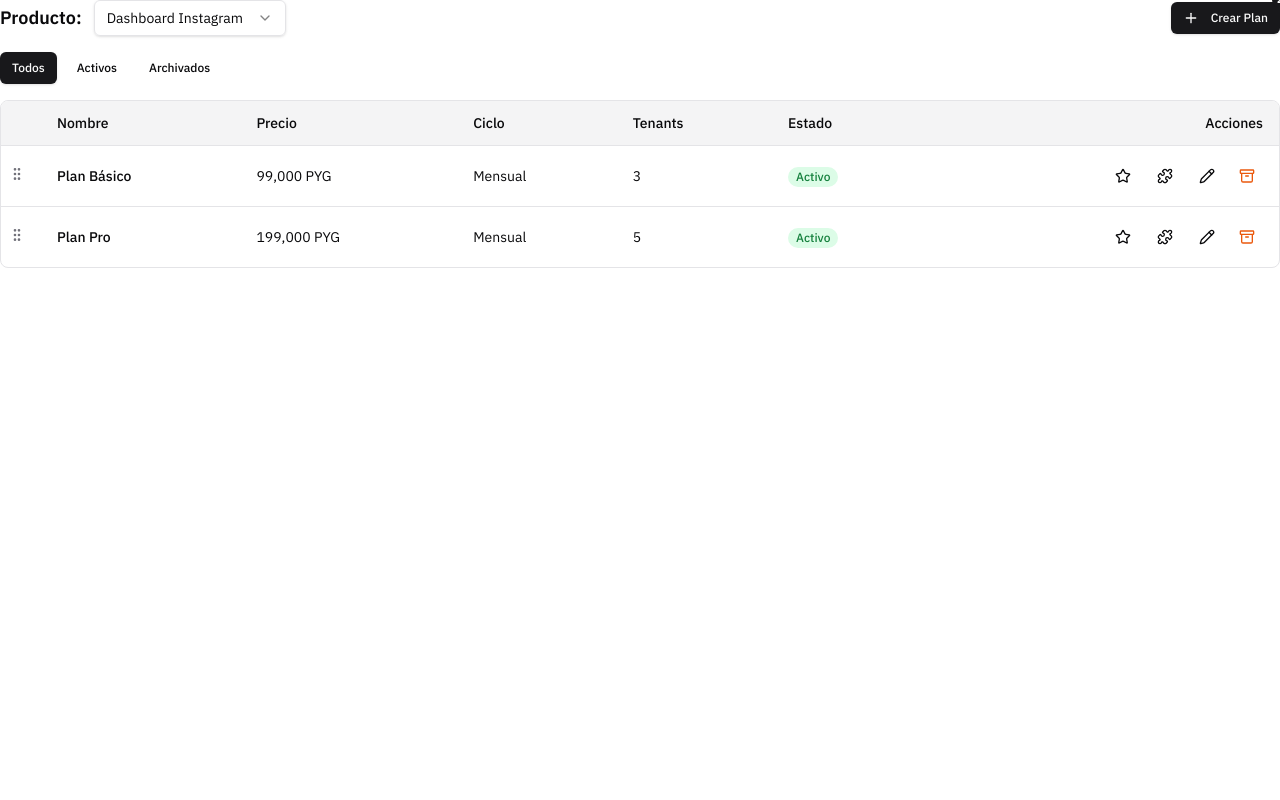
Test: PlansPage — Module Assignment › unassigns a module when clicking its remove button
Click the button named "Módulos de Plan Básico" at (1165, 176), box 1147,158 -> 1183,194
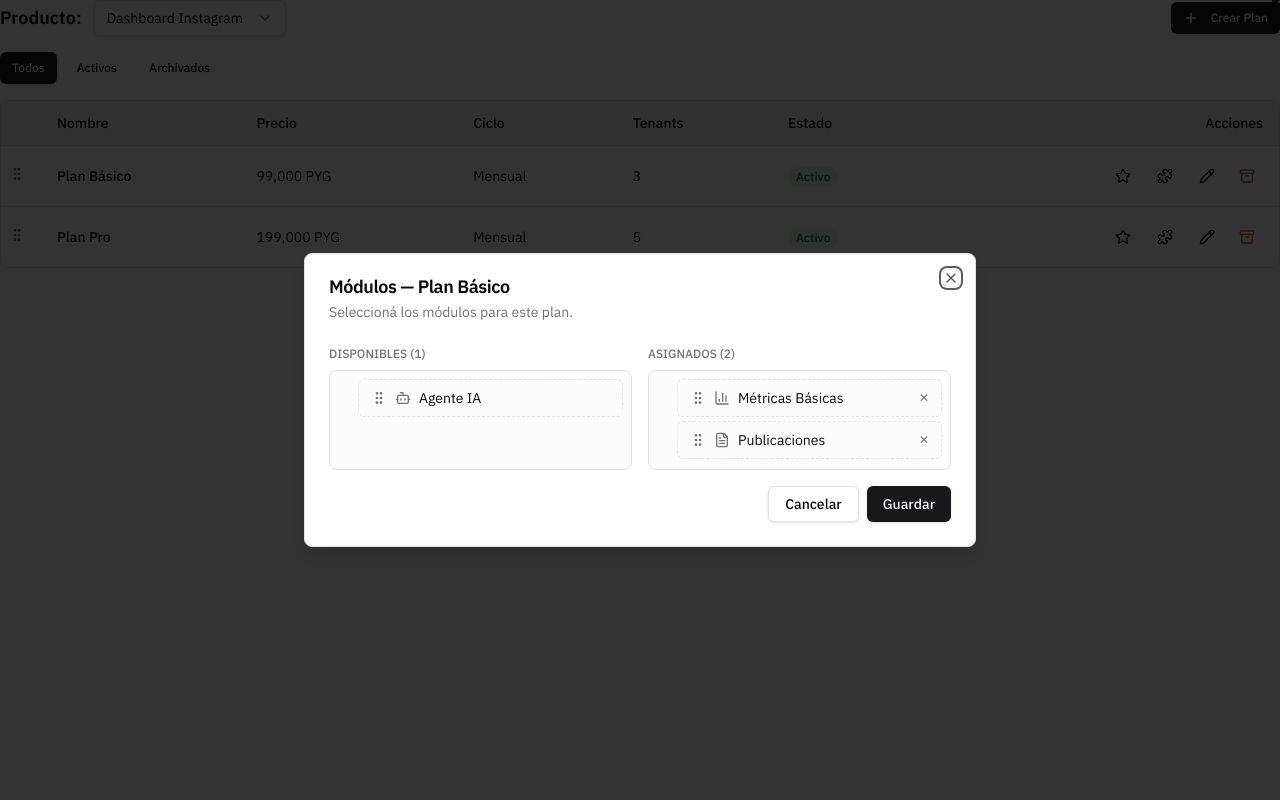
Expected: the heading "Asignados (2)" is shown, 648,346 -> 735,361
Click the button named "Quitar Publicaciones" at (924, 440), box 919,432 -> 929,448
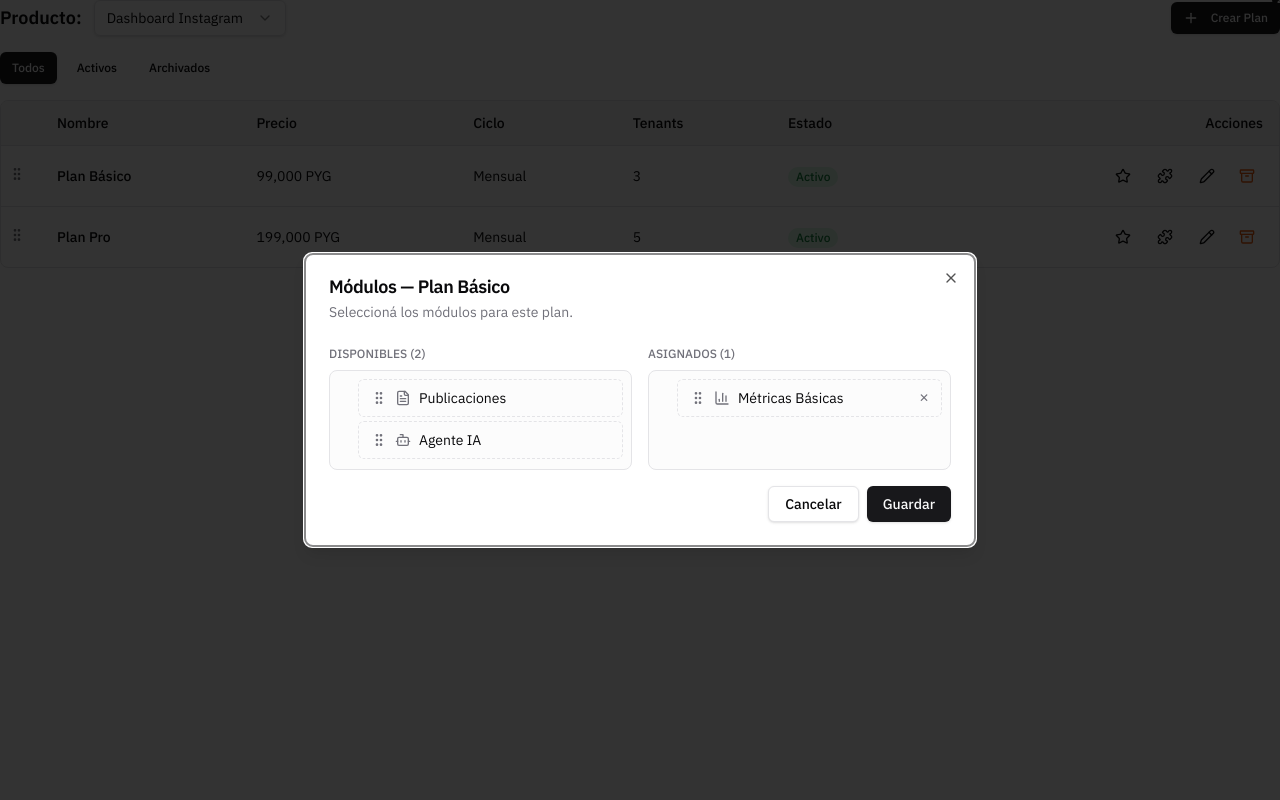
Expected: the heading "Asignados (1)" is shown, 648,346 -> 735,361
Expected: the heading "Disponibles (2)" is shown, 329,346 -> 425,361
